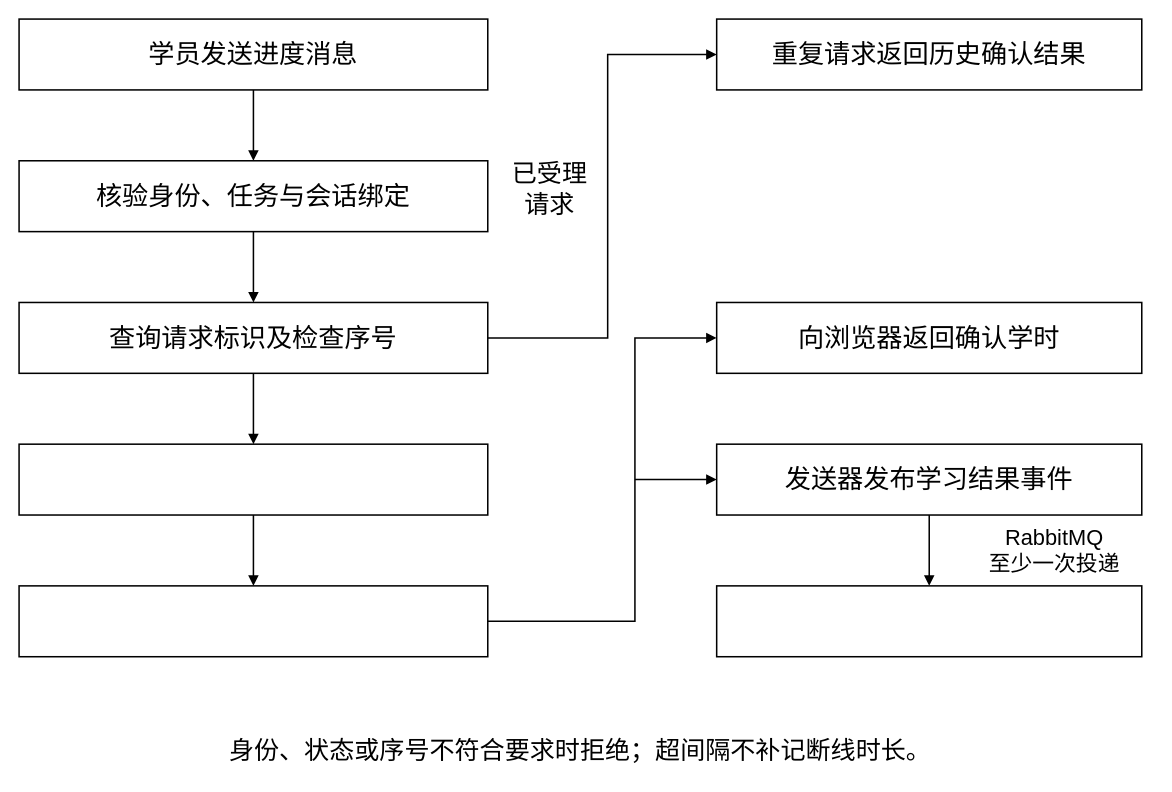
This 1172x792 diagram has some shape labels left out. The shapes that lost their labels are listed below. From the top down, each one's centre as x and y in pixels, then its label:
(253,479): 核验学习状态与计时条件
(253,621): 事务保存学时、事件及 按需产生的 Outbox
(928,621): 培训服务去重并更新任务
